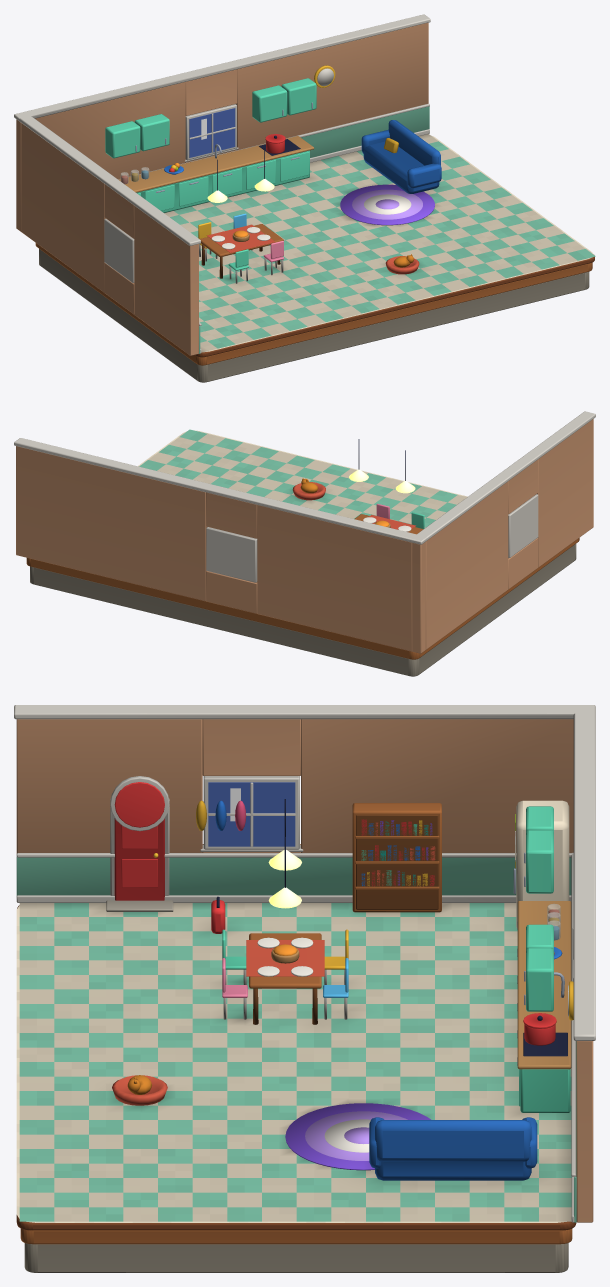
The model's file is kitchen.glb.
The picture shows the model from 3 angles, top to bottom: view 1: azimuth 30°, elevation 25°; view 2: azimuth 150°, elevation 25°; view 3: azimuth 270°, elevation 25°; orthographic projection. The views are drawn at different scales.
Parts seen in each view (by area): view 1: kitchen_Satin, kitchen_Gloss, kitchen_Matte; view 2: kitchen_Satin, kitchen_Gloss, kitchen_Matte, kitchen_Glow_warm; view 3: kitchen_Satin, kitchen_Gloss, kitchen_Matte, kitchen_Glow_warm.
Boxes of the visible parts, x1,y1,x2,y2 form: kitchen_Satin: (14,14,595,382); kitchen_Gloss: (105,65,335,270); kitchen_Matte: (195,135,594,357); kitchen_Satin: (14,411,595,676); kitchen_Gloss: (363,504,424,531); kitchen_Matte: (138,430,467,496); kitchen_Glow_warm: (349,469,415,493); kitchen_Satin: (14,705,595,1272); kitchen_Gloss: (114,782,573,1112); kitchen_Matte: (16,905,576,1230); kitchen_Glow_warm: (268,849,301,908).
Bounding box in the file's own units: 14 × 4.78 × 10.4.
